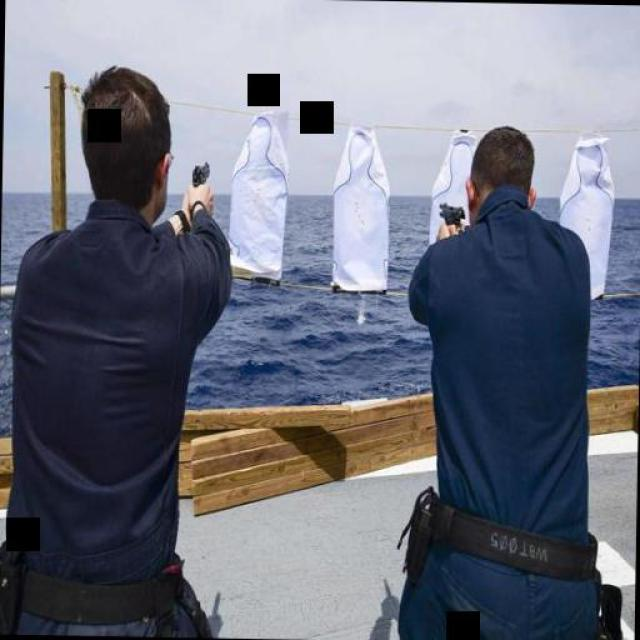gun: (435, 195, 466, 234), (190, 156, 211, 194)
